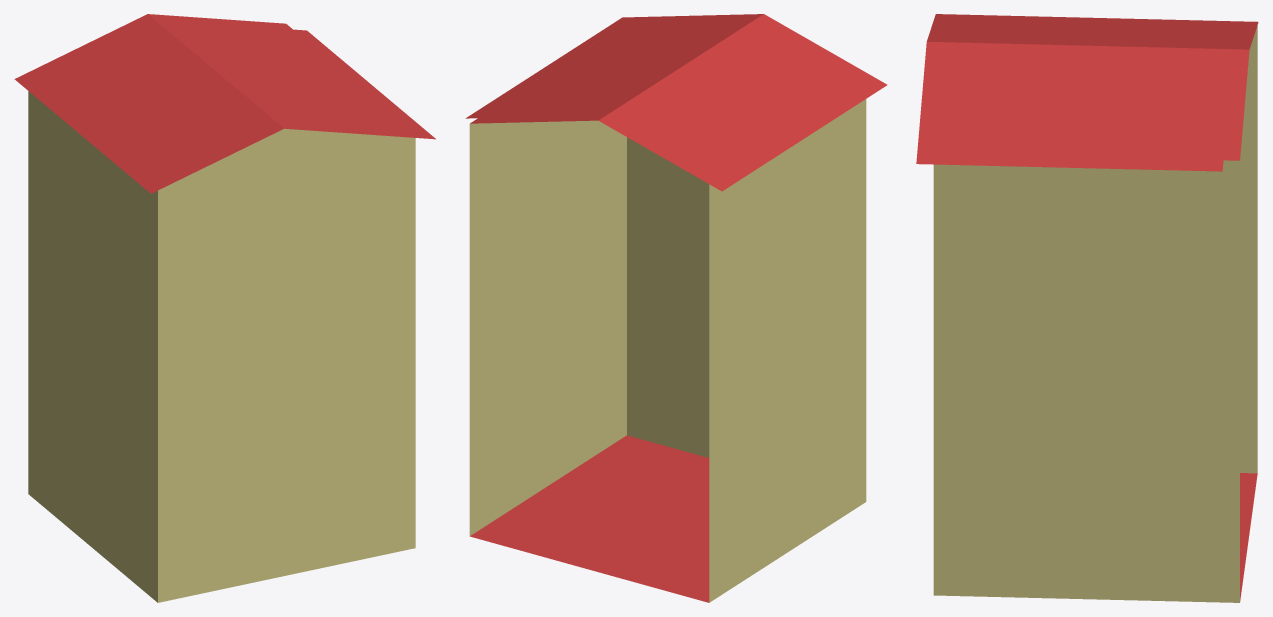
The picture shows the model from 3 angles, left to right: view 1: azimuth 30°, elevation 25°; view 2: azimuth 150°, elevation 25°; view 3: azimuth 270°, elevation 25°; orthographic projection. The views are drawn at different scales.
Size of the model in its own units: 5.4 by 5.18 by 8.07.
